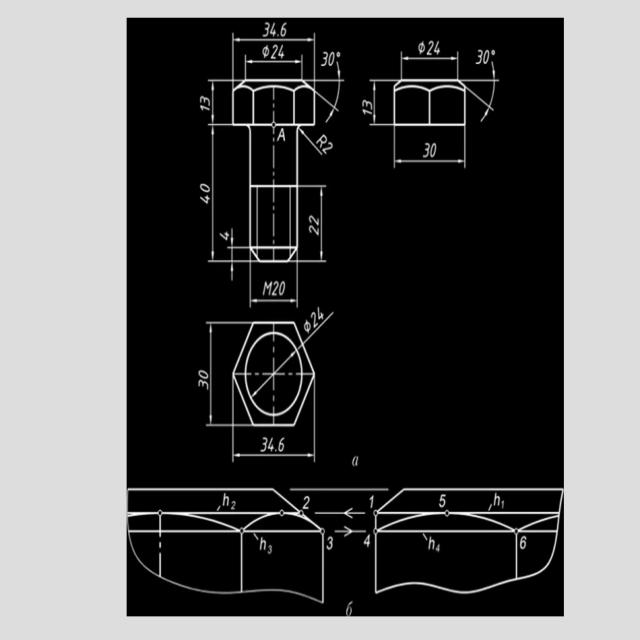marking_line: (468, 70, 508, 128), (253, 349, 296, 402), (317, 72, 345, 126), (210, 129, 219, 258), (393, 155, 465, 168), (208, 324, 217, 424), (235, 451, 315, 462), (313, 509, 365, 524), (299, 127, 322, 158), (400, 53, 458, 64), (233, 37, 314, 44), (246, 296, 299, 306), (227, 228, 236, 281), (247, 59, 302, 67), (333, 525, 367, 537), (319, 185, 324, 265), (210, 83, 215, 121)
numeric: (258, 435, 288, 453), (261, 21, 292, 38), (475, 44, 492, 67), (311, 305, 325, 329), (427, 40, 444, 59), (423, 138, 437, 160), (321, 51, 336, 71), (272, 277, 287, 297), (360, 98, 374, 118), (271, 42, 285, 61), (301, 496, 313, 514), (436, 493, 449, 509), (322, 142, 336, 155), (519, 534, 528, 553), (345, 600, 355, 617), (362, 534, 374, 548), (326, 535, 335, 550), (368, 495, 375, 512)
special_symbol: (417, 40, 426, 56), (303, 317, 311, 334), (260, 46, 270, 58), (335, 50, 341, 58)
